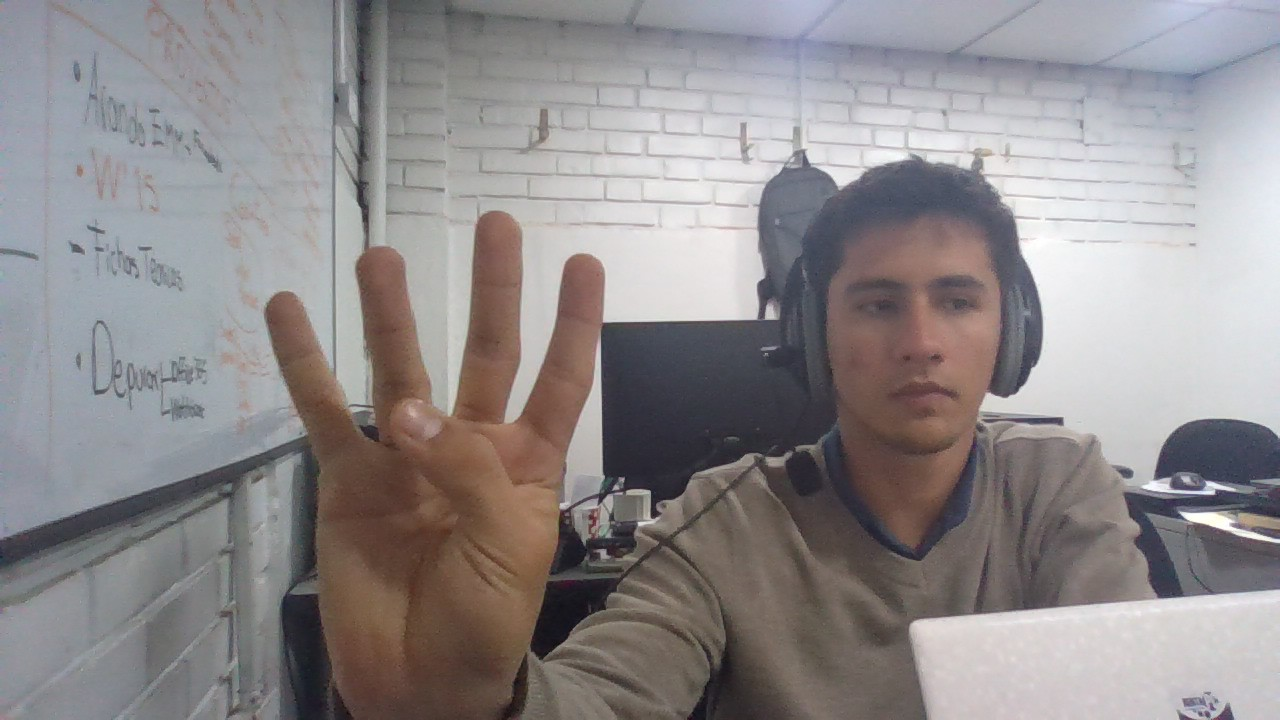esposo: (265, 195, 608, 676)
